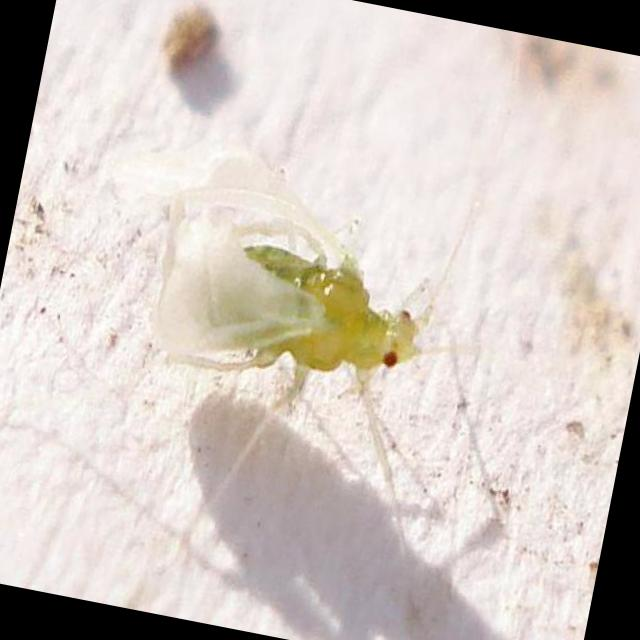aphid: (108, 195, 547, 553)
